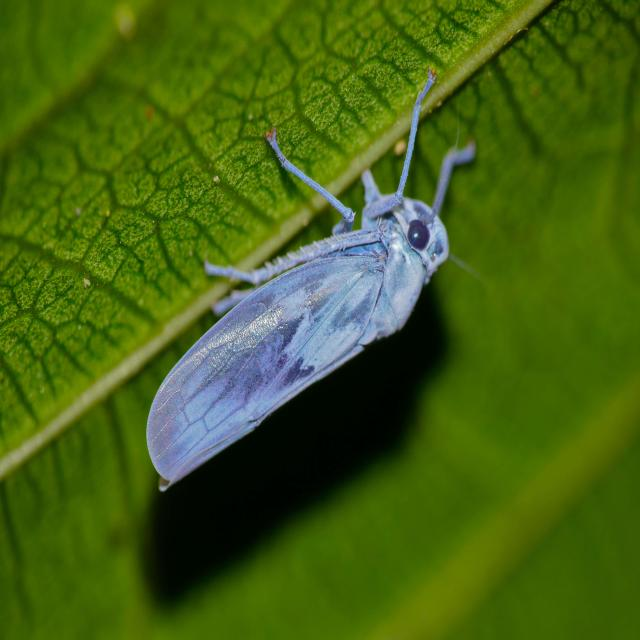Yechan: (125, 84, 490, 503)
